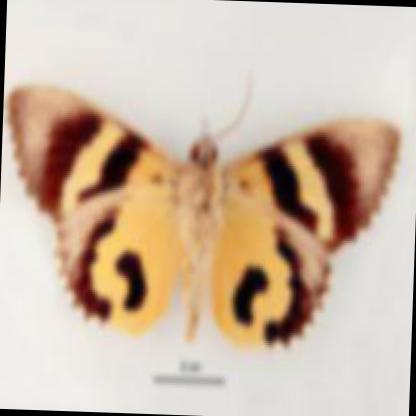fruit sucking moth: (8, 90, 405, 350)
